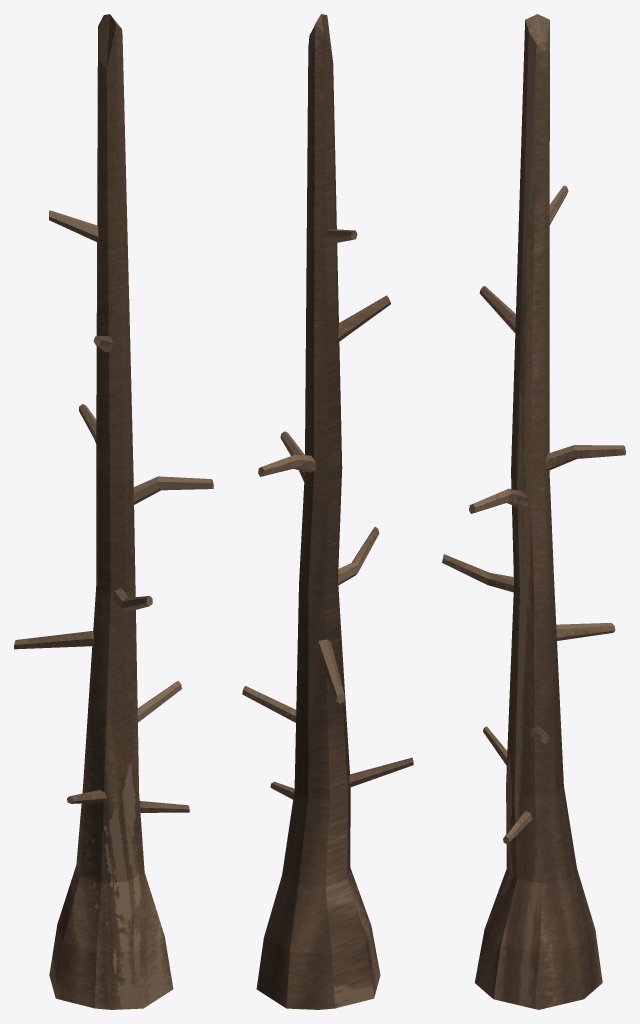
The model's file is Tree03.fbx.
The picture shows the model from 3 angles, left to right: view 1: azimuth 30°, elevation 25°; view 2: azimuth 150°, elevation 25°; view 3: azimuth 270°, elevation 25°; orthographic projection.
Visible parts, largest first — view 1: Tree03; view 2: Tree03; view 3: Tree03.
Part boxes in pixels (x1=…): Tree03: x1=14, y1=14, x2=213, y2=1009; Tree03: x1=242, y1=14, x2=413, y2=1009; Tree03: x1=442, y1=14, x2=625, y2=1009.
Size of the model in its own units: 52.94 by 356 by 59.8.
